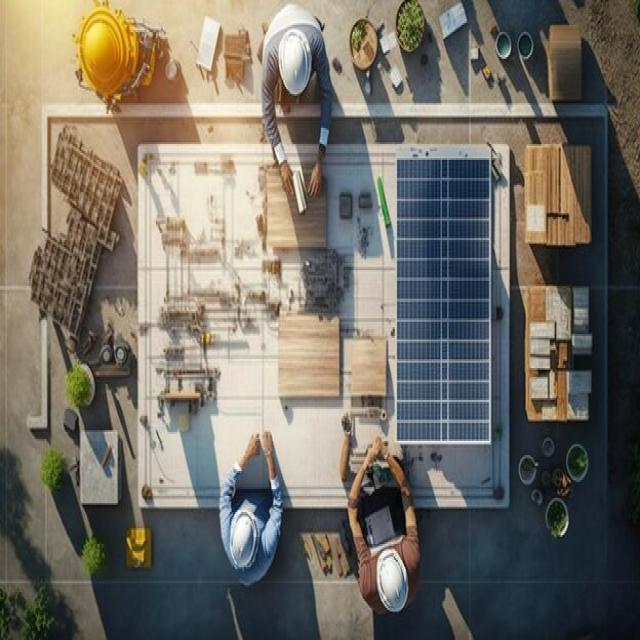helmet: (275, 30, 313, 92), (376, 544, 407, 618), (225, 513, 266, 566)
